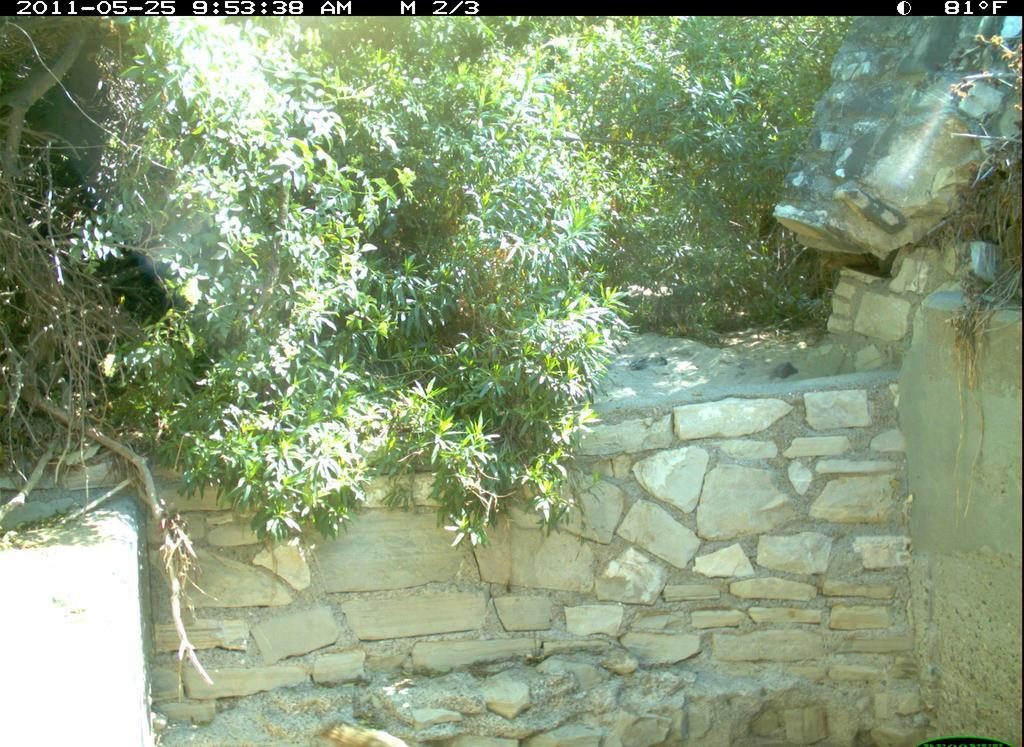squirrel: (322, 715, 425, 747)
